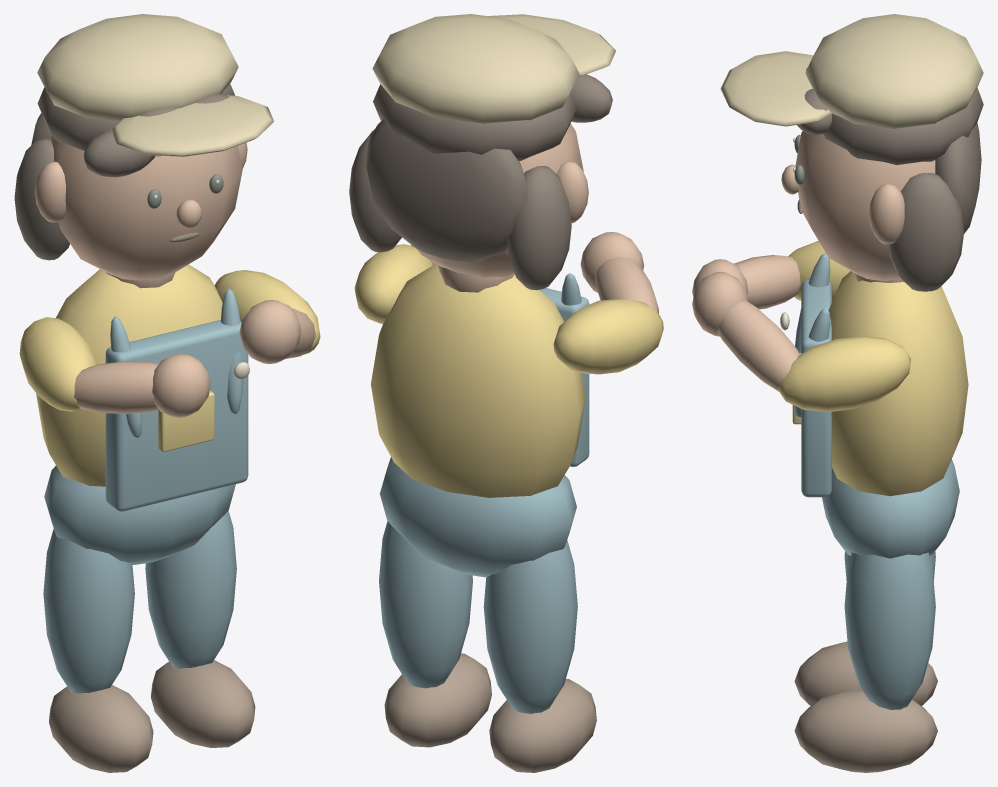
Rendered from ani-work.glb.
3 renders of one model, left to right at view 1: azimuth 30°, elevation 25°; view 2: azimuth 150°, elevation 25°; view 3: azimuth 270°, elevation 25°, orthographic. The views are drawn at different scales.
Parts seen in each view (by area): view 1: Head.005, Cap crown.002, Overall bib.005, Padded shirt.005, Trouser leg.010, Soft trouser seat.005, Trouser leg.011, Rounded boot.011, Rounded boot.010, Cap bill.002, Shirt sleeve.010, Forearm.010 (+12 smaller); view 2: Padded shirt.005, Cap crown.002, Hair back.005, Soft trouser seat.005, Trouser leg.010, Trouser leg.011, Hair crown.005, Rounded boot.010, Rounded boot.011, Shirt sleeve.010, Rounded bob.004, Shirt sleeve.011 (+9 smaller); view 3: Padded shirt.005, Cap crown.002, Trouser leg.011, Head.005, Rounded boot.011, Soft trouser seat.005, Shirt sleeve.011, Rounded bob.005, Cap bill.002, Hair crown.005, Overall bib.005, Forearm.011 (+10 smaller).
Part boxes in pixels (x1,y1,x2,y2): Head.005: [51, 135, 242, 280]; Cap crown.002: [37, 14, 238, 120]; Overall bib.005: [105, 320, 248, 511]; Padded shirt.005: [36, 264, 222, 486]; Trouser leg.010: [43, 529, 134, 693]; Soft trouser seat.005: [44, 465, 235, 564]; Trouser leg.011: [145, 510, 236, 668]; Rounded boot.011: [151, 660, 255, 747]; Rounded boot.010: [49, 685, 153, 772]; Cap bill.002: [111, 95, 273, 156]; Shirt sleeve.010: [19, 317, 95, 411]; Forearm.010: [74, 361, 158, 413]; Padded shirt.005: [371, 263, 585, 497]; Cap crown.002: [372, 14, 579, 123]; Hair back.005: [365, 119, 527, 262]; Soft trouser seat.005: [380, 457, 576, 577]; Trouser leg.010: [483, 540, 577, 713]; Trouser leg.011: [379, 521, 472, 688]; Hair crown.005: [373, 84, 576, 160]; Rounded boot.010: [489, 679, 596, 772]; Rounded boot.011: [384, 653, 491, 747]; Shirt sleeve.010: [553, 298, 663, 374]; Rounded bob.004: [506, 166, 571, 290]; Shirt sleeve.011: [354, 244, 432, 323]; Padded shirt.005: [828, 271, 968, 496]; Cap crown.002: [805, 14, 983, 128]; Trouser leg.011: [844, 552, 935, 709]; Head.005: [795, 131, 935, 280]; Rounded boot.011: [794, 689, 937, 772]; Soft trouser seat.005: [822, 459, 959, 558]; Shirt sleeve.011: [778, 336, 910, 412]; Rounded bob.005: [889, 173, 963, 291]; Cap bill.002: [720, 51, 831, 126]; Hair crown.005: [823, 87, 983, 164]; Overall bib.005: [801, 280, 831, 497]; Forearm.011: [717, 300, 800, 391].
Bounding box in the file's own units: 0.6398 × 1.58 × 0.5896.
